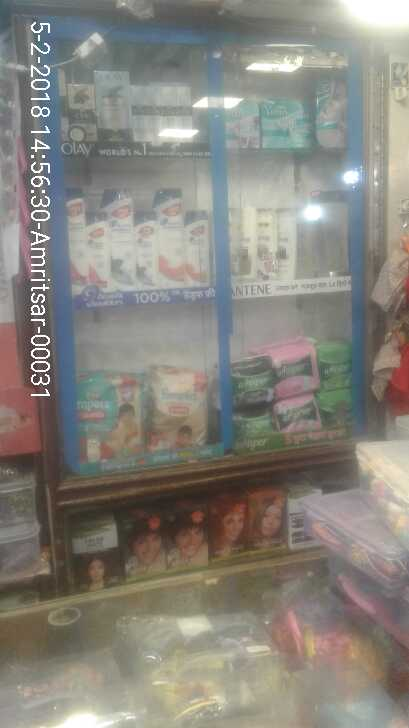venus: (261, 101, 315, 146), (315, 78, 345, 146), (228, 101, 261, 147)
